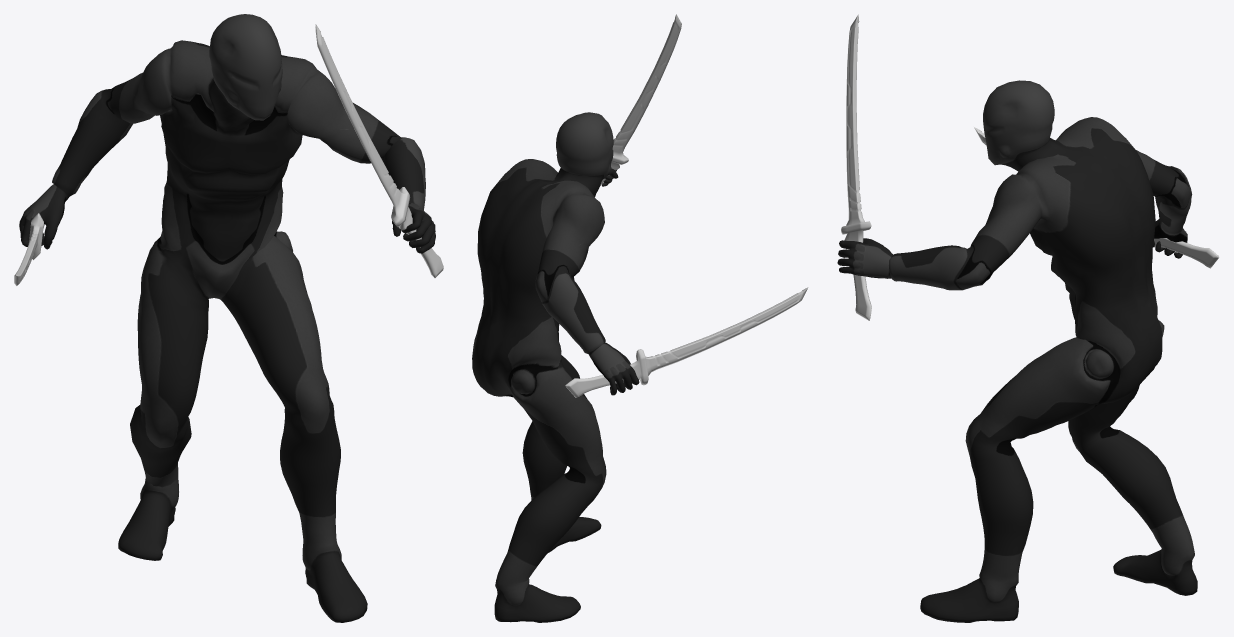
The picture shows the model from 3 angles, left to right: view 1: azimuth 30°, elevation 25°; view 2: azimuth 150°, elevation 25°; view 3: azimuth 270°, elevation 25°; orthographic projection. The views are drawn at different scales.
Parts seen in each view (by area): view 1: Cyborg_Ninja_Killer, Sword_l, Sword_l001; view 2: Cyborg_Ninja_Killer, Sword_l001, Sword_l; view 3: Cyborg_Ninja_Killer, Sword_l, Sword_l001.
Boxes of the visible parts, bbox=[...] form: Cyborg_Ninja_Killer: bbox=[19, 14, 435, 622]; Sword_l: bbox=[315, 24, 443, 277]; Sword_l001: bbox=[14, 213, 44, 285]; Cyborg_Ninja_Killer: bbox=[472, 112, 639, 622]; Sword_l001: bbox=[565, 287, 808, 397]; Sword_l: bbox=[600, 14, 681, 185]; Cyborg_Ninja_Killer: bbox=[837, 80, 1197, 622]; Sword_l: bbox=[841, 14, 871, 320]; Sword_l001: bbox=[974, 127, 1219, 268].
Size of the model in its own units: 118 by 181 by 111.
